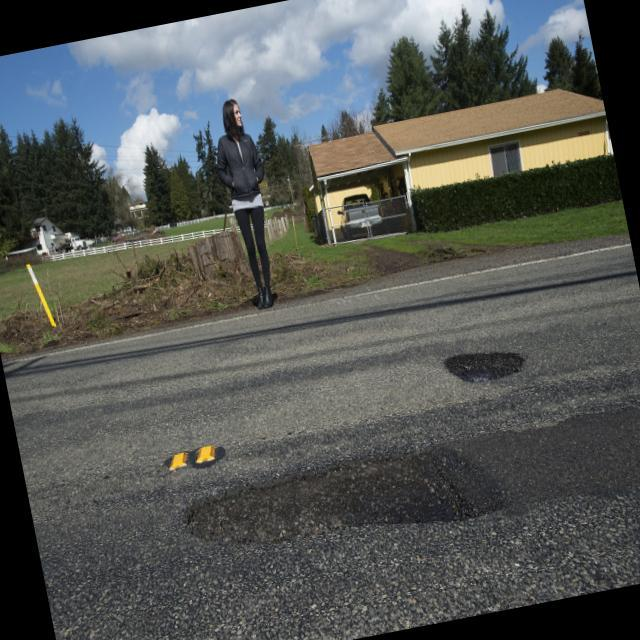Pothole: (180, 432, 492, 584), (436, 325, 530, 402)
